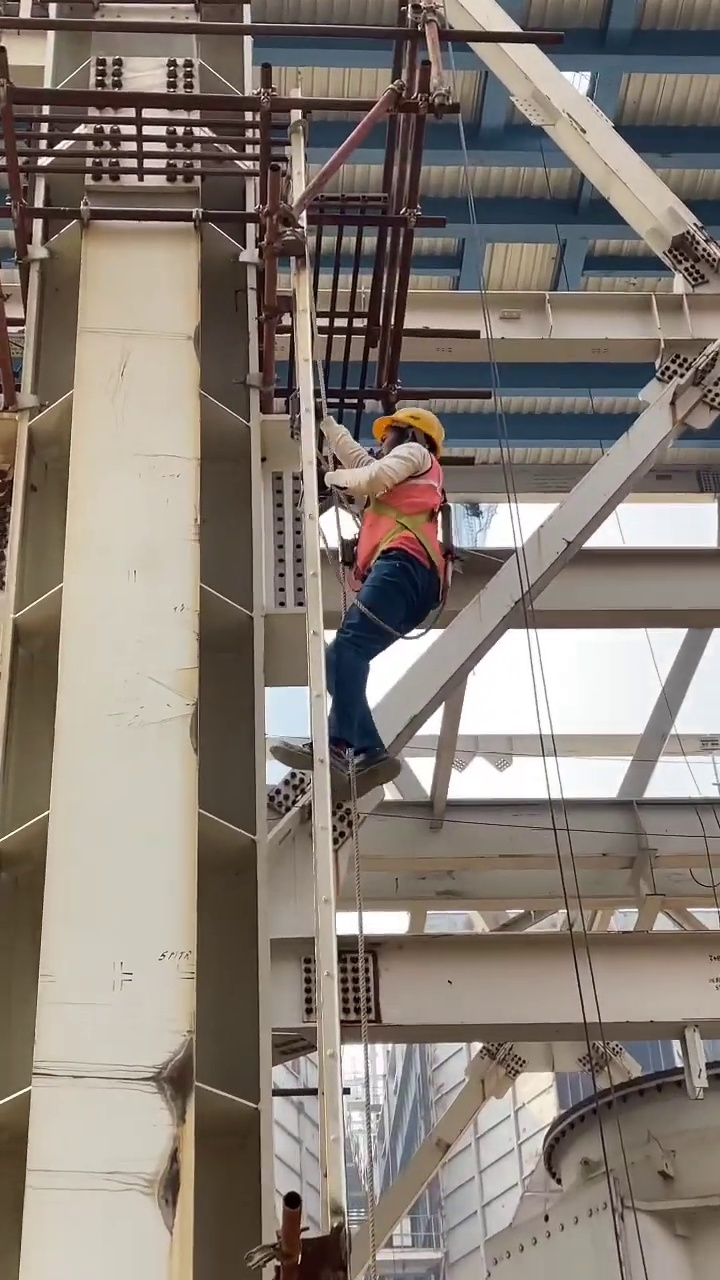Helmet: (374, 405, 446, 442)
Person: (276, 408, 452, 797)
Safety_Harness: (342, 454, 452, 639)
Safety_shoes: (316, 752, 404, 795), (270, 738, 349, 785)
